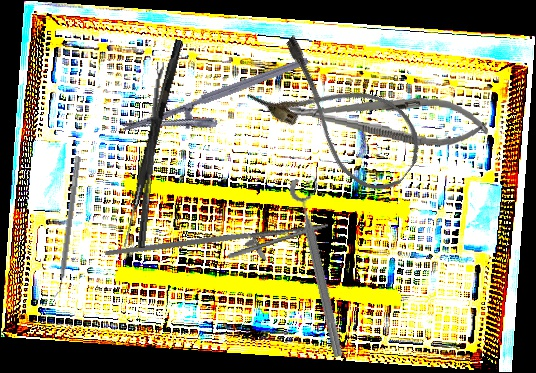Cannula: (245, 30, 436, 204)
Fixation Ring: (287, 174, 359, 359)
Hook Surgical: (120, 38, 184, 249)
Needle Holder: (104, 196, 333, 299), (120, 56, 319, 157), (283, 84, 491, 152)
Spatula Surgical: (51, 155, 82, 299)
Surgical Spoon: (137, 61, 166, 249)
